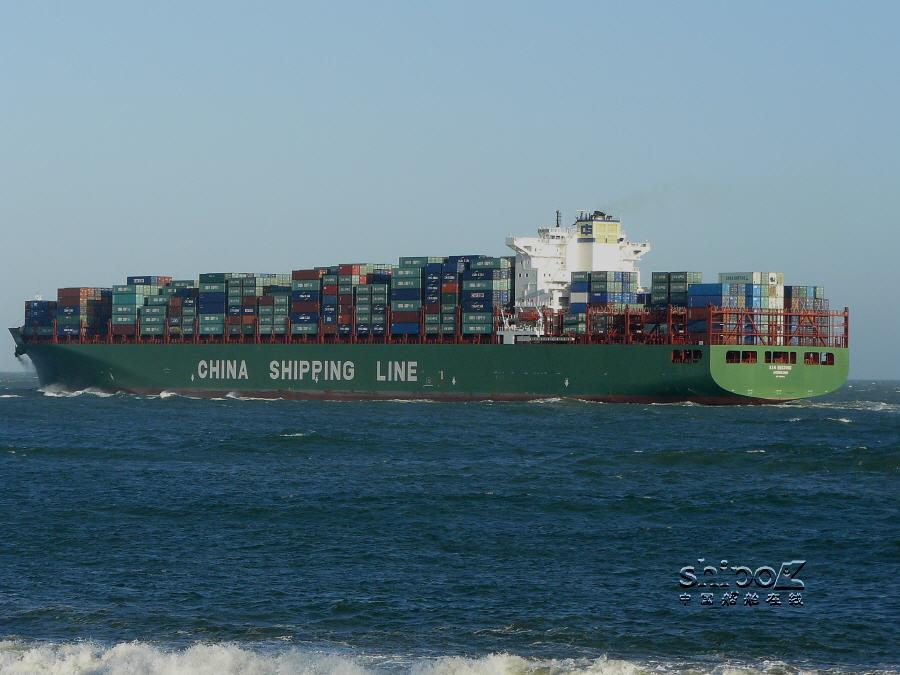Cargoship: (11, 194, 857, 407)
